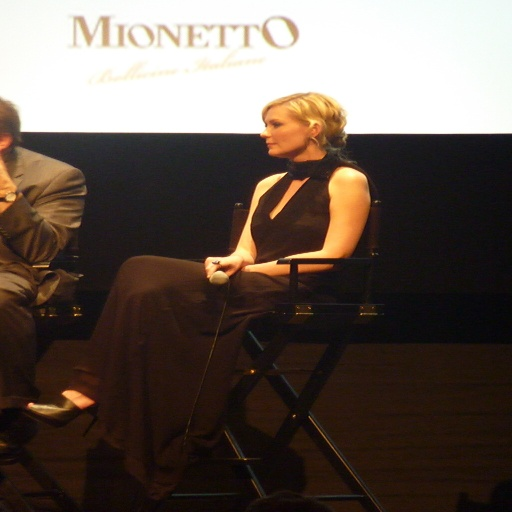hand: (200, 256, 240, 280), (0, 153, 14, 196)
